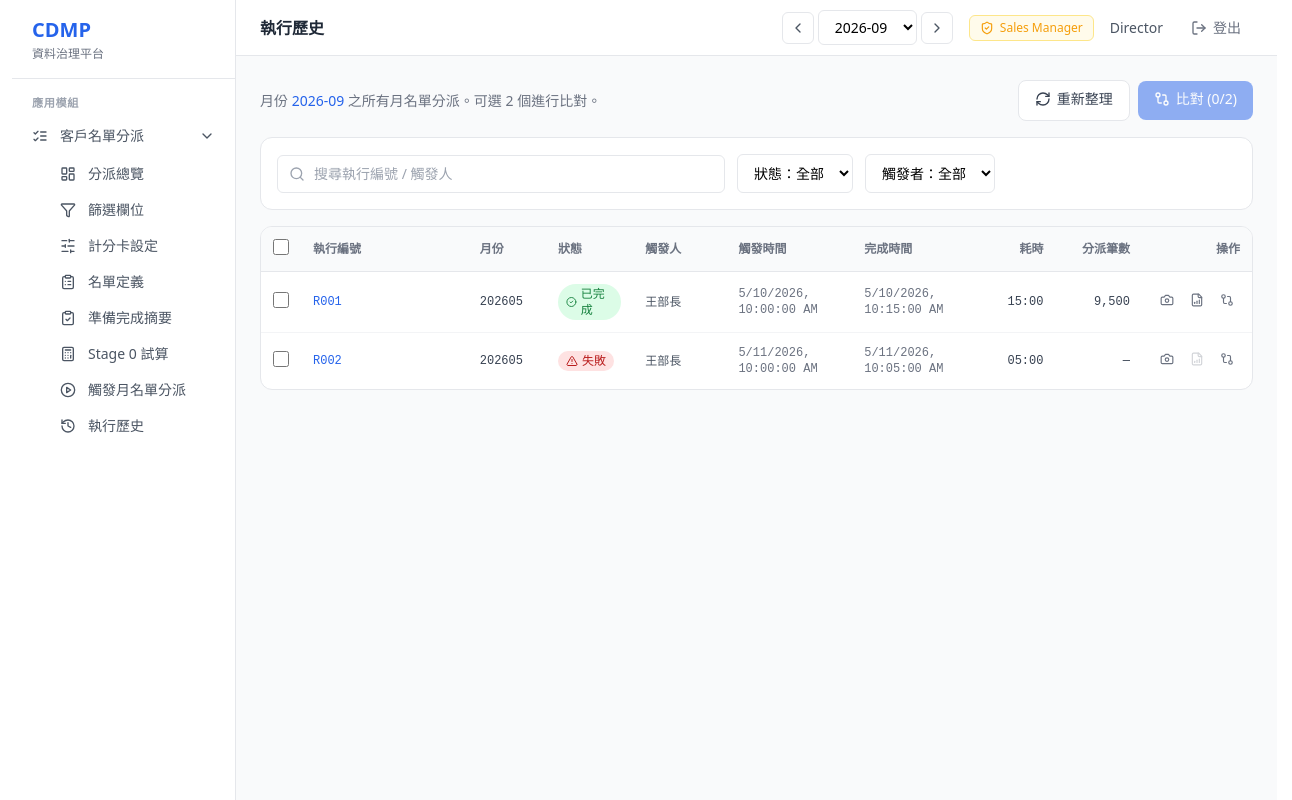
Test: RunHistoryPage (F065) › 比對按鈕預設 disabled；勾選 2 個 run 後啟用
Expected: the row with test id "run-row-R001" is shown, [261, 272, 1252, 332]
Expected: the button with test id "btn-compare-selected" is disabled, [1138, 81, 1253, 120]
Click the checkbox with test id "run-checkbox-R001" at point(281, 300), box [273, 292, 289, 308]
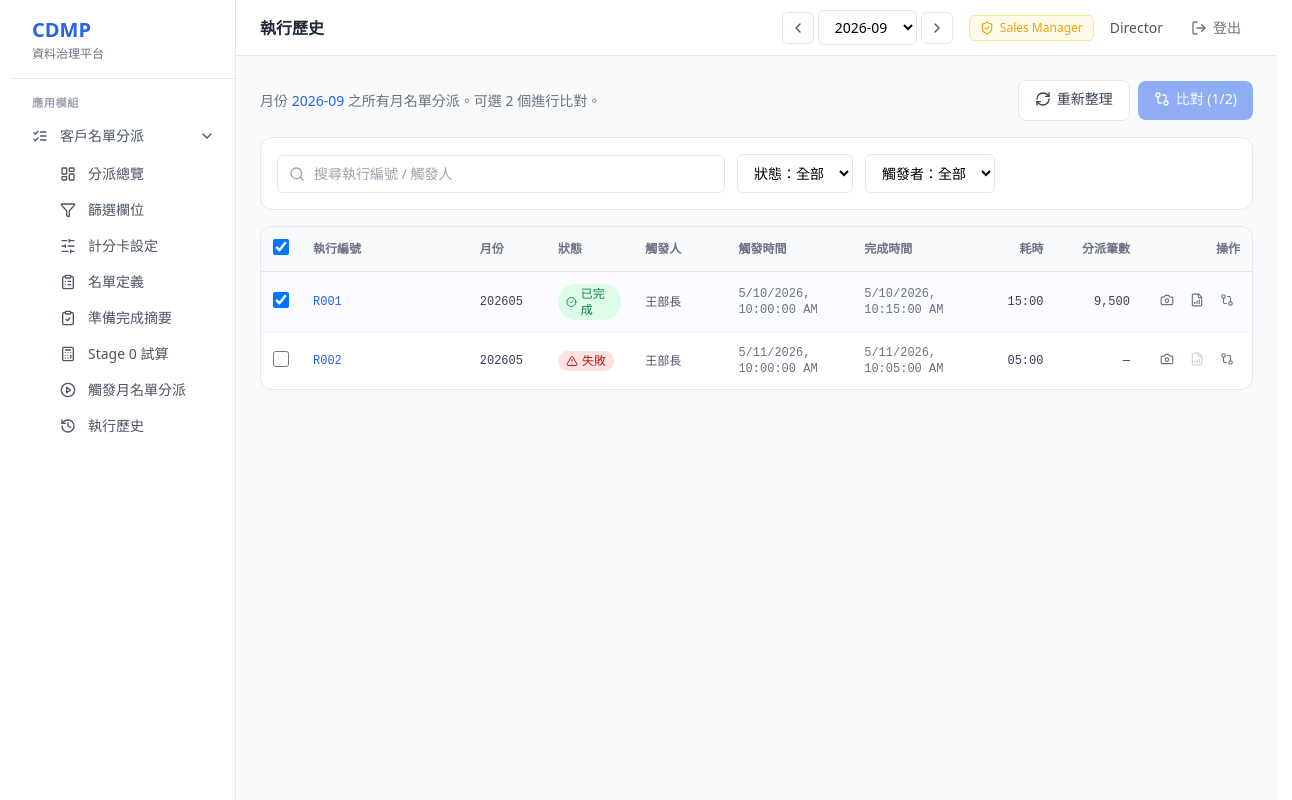
Expected: the button with test id "btn-compare-selected" is disabled, [1138, 81, 1253, 120]
Click the checkbox with test id "run-checkbox-R002" at point(281, 358), box [273, 350, 289, 366]
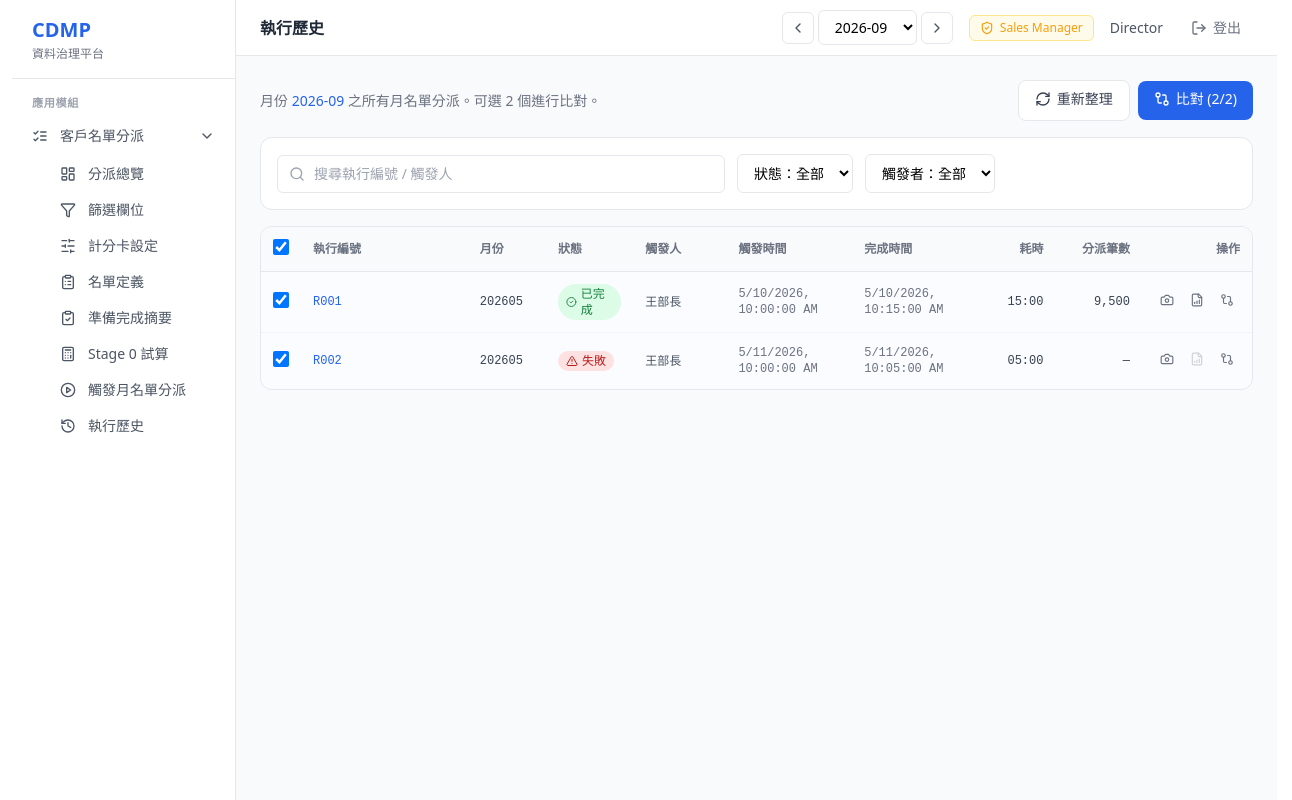
Expected: the button with test id "btn-compare-selected" is enabled, [1138, 81, 1253, 120]
